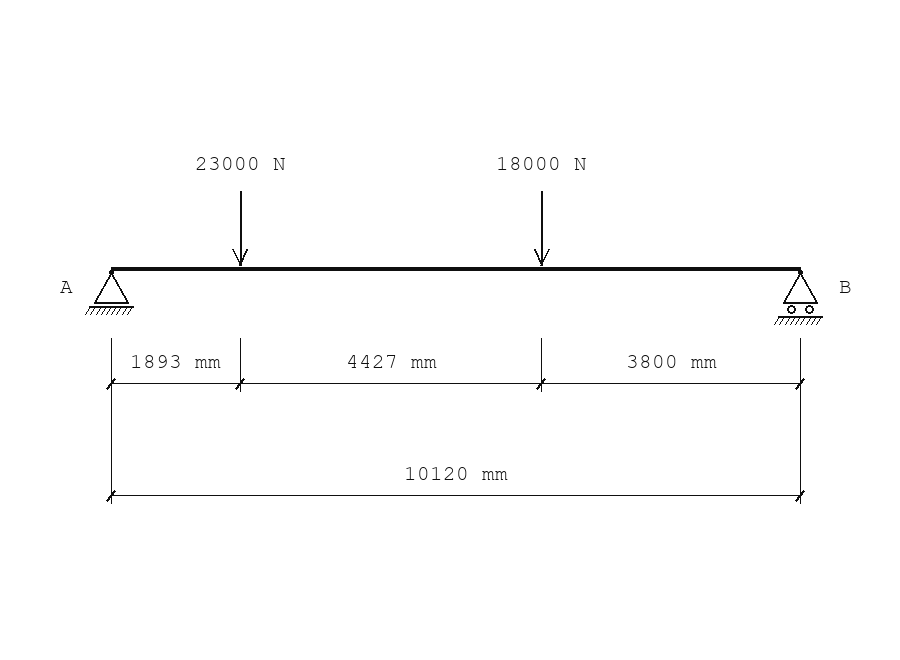pin_support: (85, 270, 134, 315)
point_load: (232, 191, 248, 266), (534, 191, 550, 266)
roller_support: (774, 270, 823, 325)
